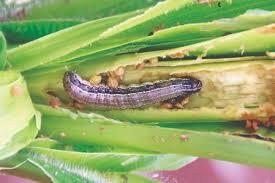fallarmy_worm: (61, 66, 209, 109)
